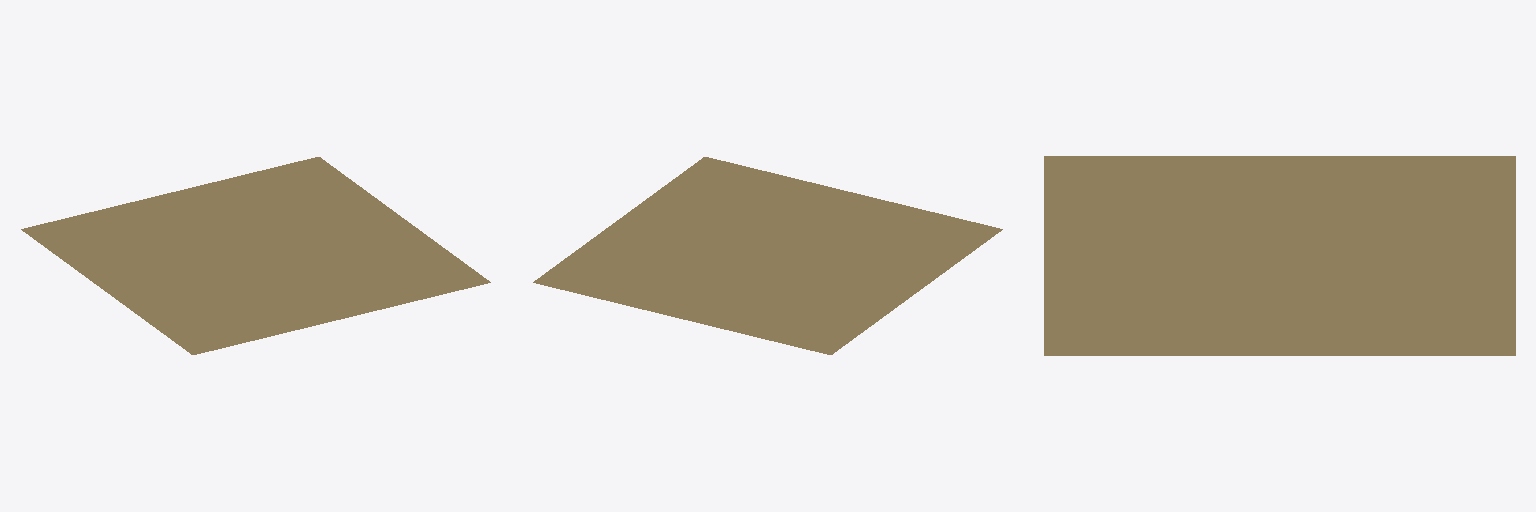
The robot description file, URDF, robot "ground_skeleton":
<?xml version="1.0"?>
<robot name="ground_skeleton">
    <link name="world" />
    <link name="ground_link">
        <!--<collision name="collision">-->
            <!--<origin xyz = "0 0 -1.28" rpy="3.14159265 0 0" />-->
            <!--<geometry>-->
                <!--<mesh filename = "trs.dae" scale="0.1 0.1 0.1" />-->
                <!--</geometry>-->
            <!--</collision>-->
        <visual name="visual">
            <origin xyz = ".0 .0 -1.28" rpy="3.14159265 0 0" />
            <geometry>
                <mesh filename = "trs.dae" scale="0.1 0.1 0.1" />
            </geometry>
        </visual>

        <collision name="collision">
            <origin xyz="0 0.0 0" rpy="0 -0 0" />
            <geometry>
                <box size="25 25 0.05" />
            </geometry>
        </collision>
        <!--<visual name="visual">-->
            <!--<origin xyz="0 0.0 0" rpy="0 -0 0" />-->
            <!--<geometry>-->
                <!--<box size="25 25 0.05" />-->
                <!--</geometry>-->
            <!--</visual>-->

        <inertial>
            <mass value="1.0" />
            <origin xyz="0 0 0" rpy="0 0 0" />
            <inertia ixx="1.0" ixy="0" ixz="0" iyy="1.0" iyz="0" izz="1.0" />
        </inertial>
    </link>
    <joint name="ground_joint" type="fixed">
        <origin xyz="0 0 0" rpy="0 0 0" />
        <parent link="world" />
        <child link="ground_link" />
    </joint>
</robot>

--- What the picture shows (computed from the rendered views, not written in the file) ---
The picture shows the robot from 3 angles, left to right: view 1: azimuth 30°, elevation 25°; view 2: azimuth 150°, elevation 25°; view 3: azimuth 270°, elevation 25°; orthographic projection.
Robot: ground_skeleton — 2 links, 1 joints (1 fixed); root link world; default pose: every joint at zero.
Visible links, largest first — view 1: ground_link; view 2: ground_link; view 3: ground_link.
Link boxes in pixels (x1,y1,x2,y2): ground_link: (21, 157, 490, 354); ground_link: (533, 157, 1002, 354); ground_link: (1044, 156, 1515, 355).
Size in the robot's own frame: 14.27 by 14.27 by 0.0117 metres.
Meshes: 1 distinct files referenced, 1 mesh visuals loaded (1 Collada DAE).
